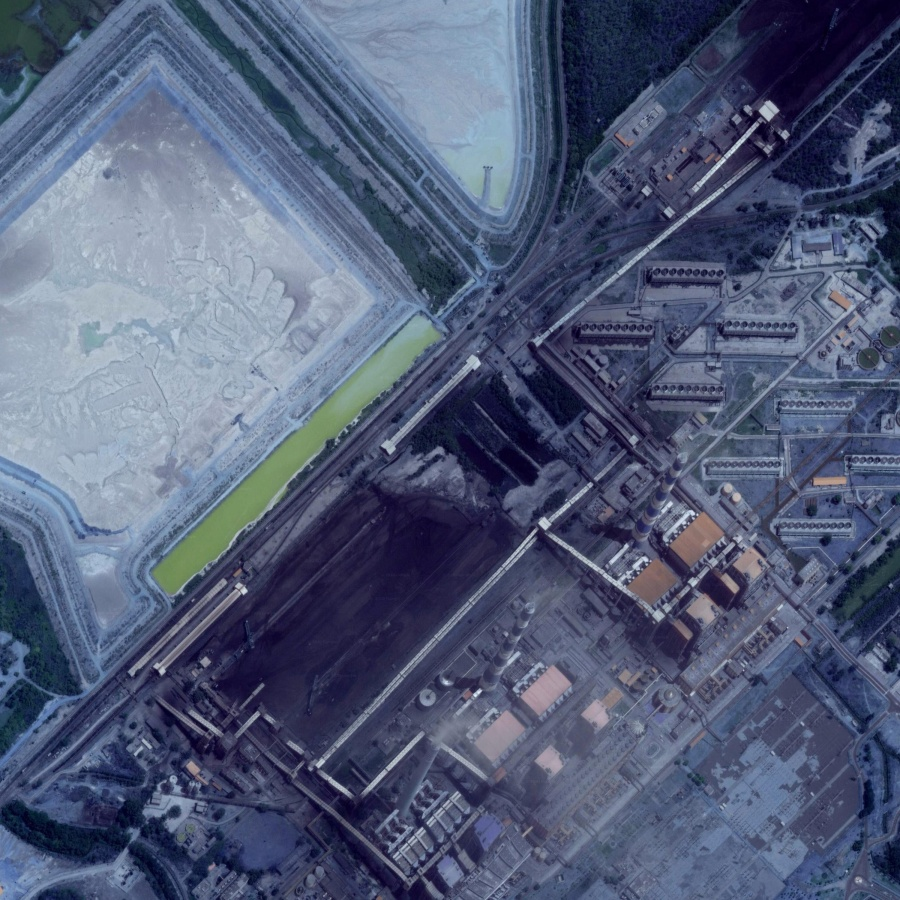PowerPlant: (140, 318, 665, 825)
